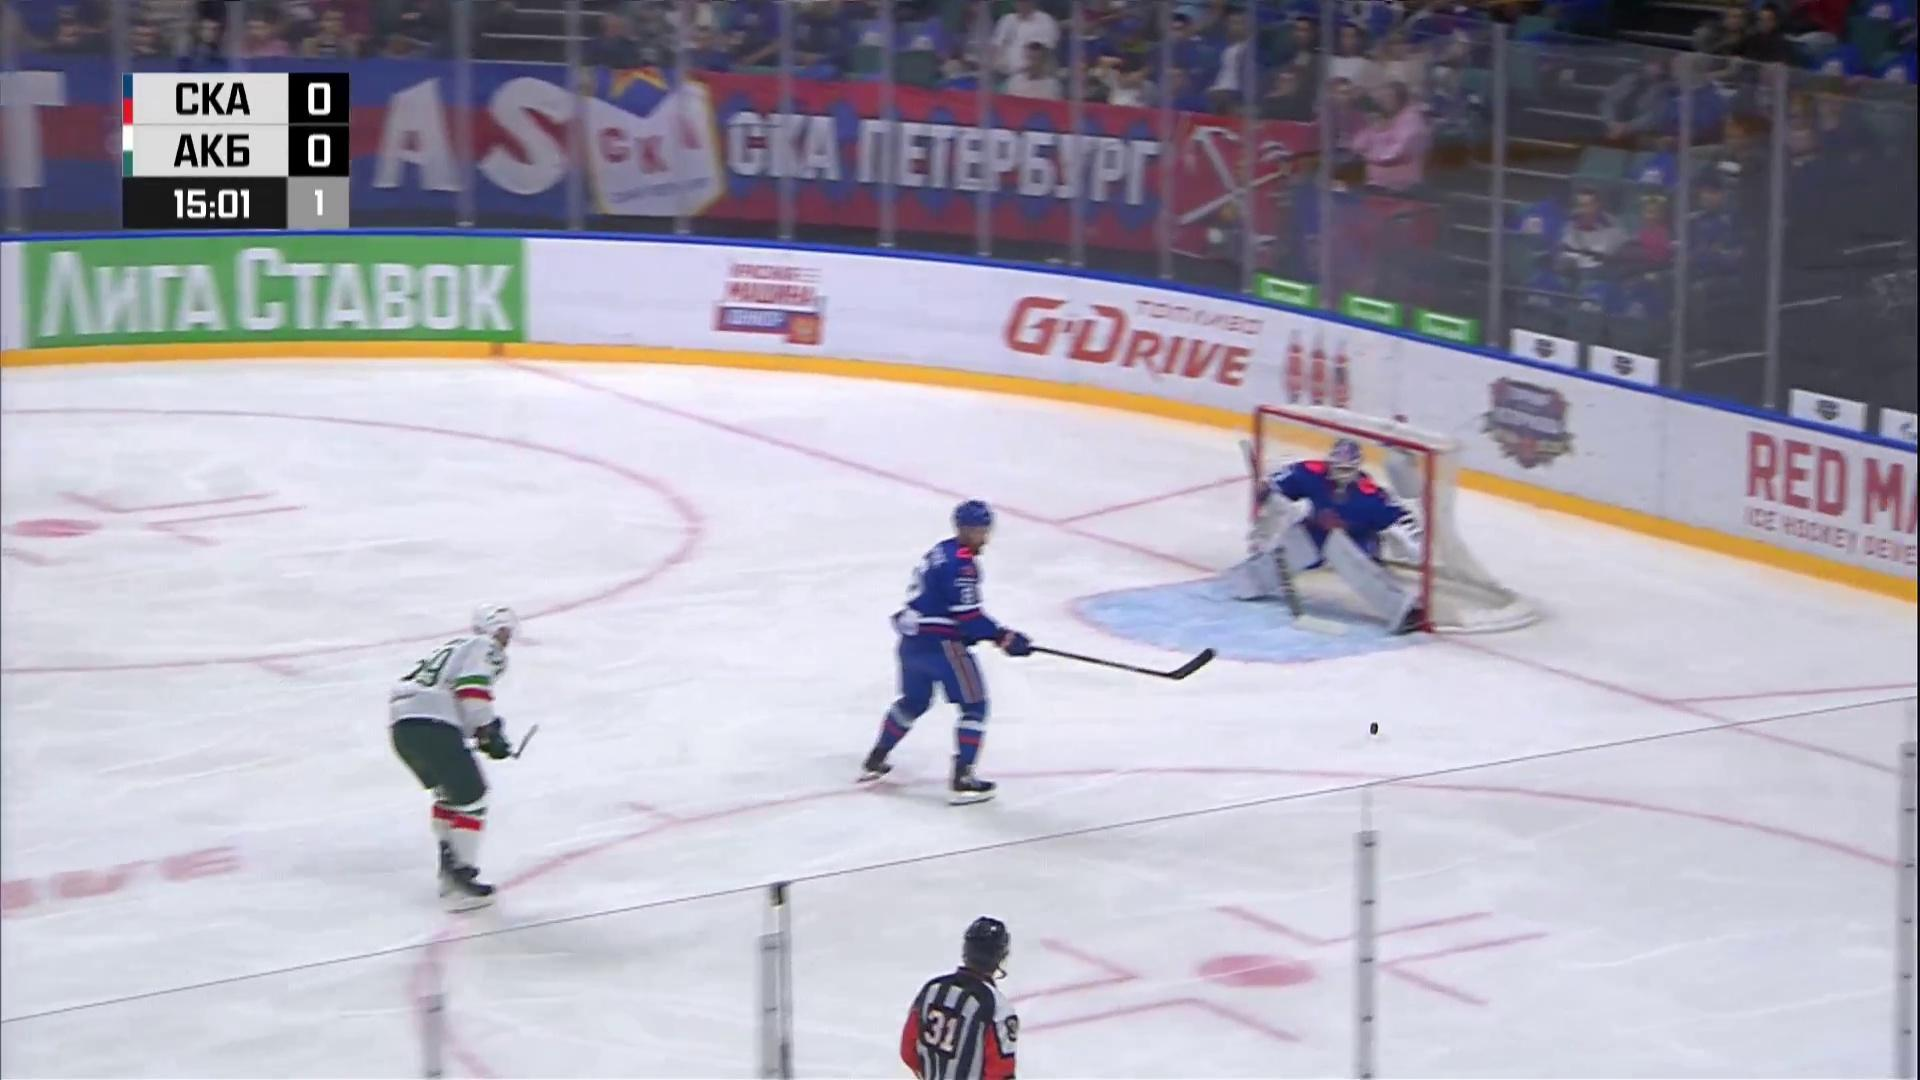ball: (1369, 721, 1378, 736)
